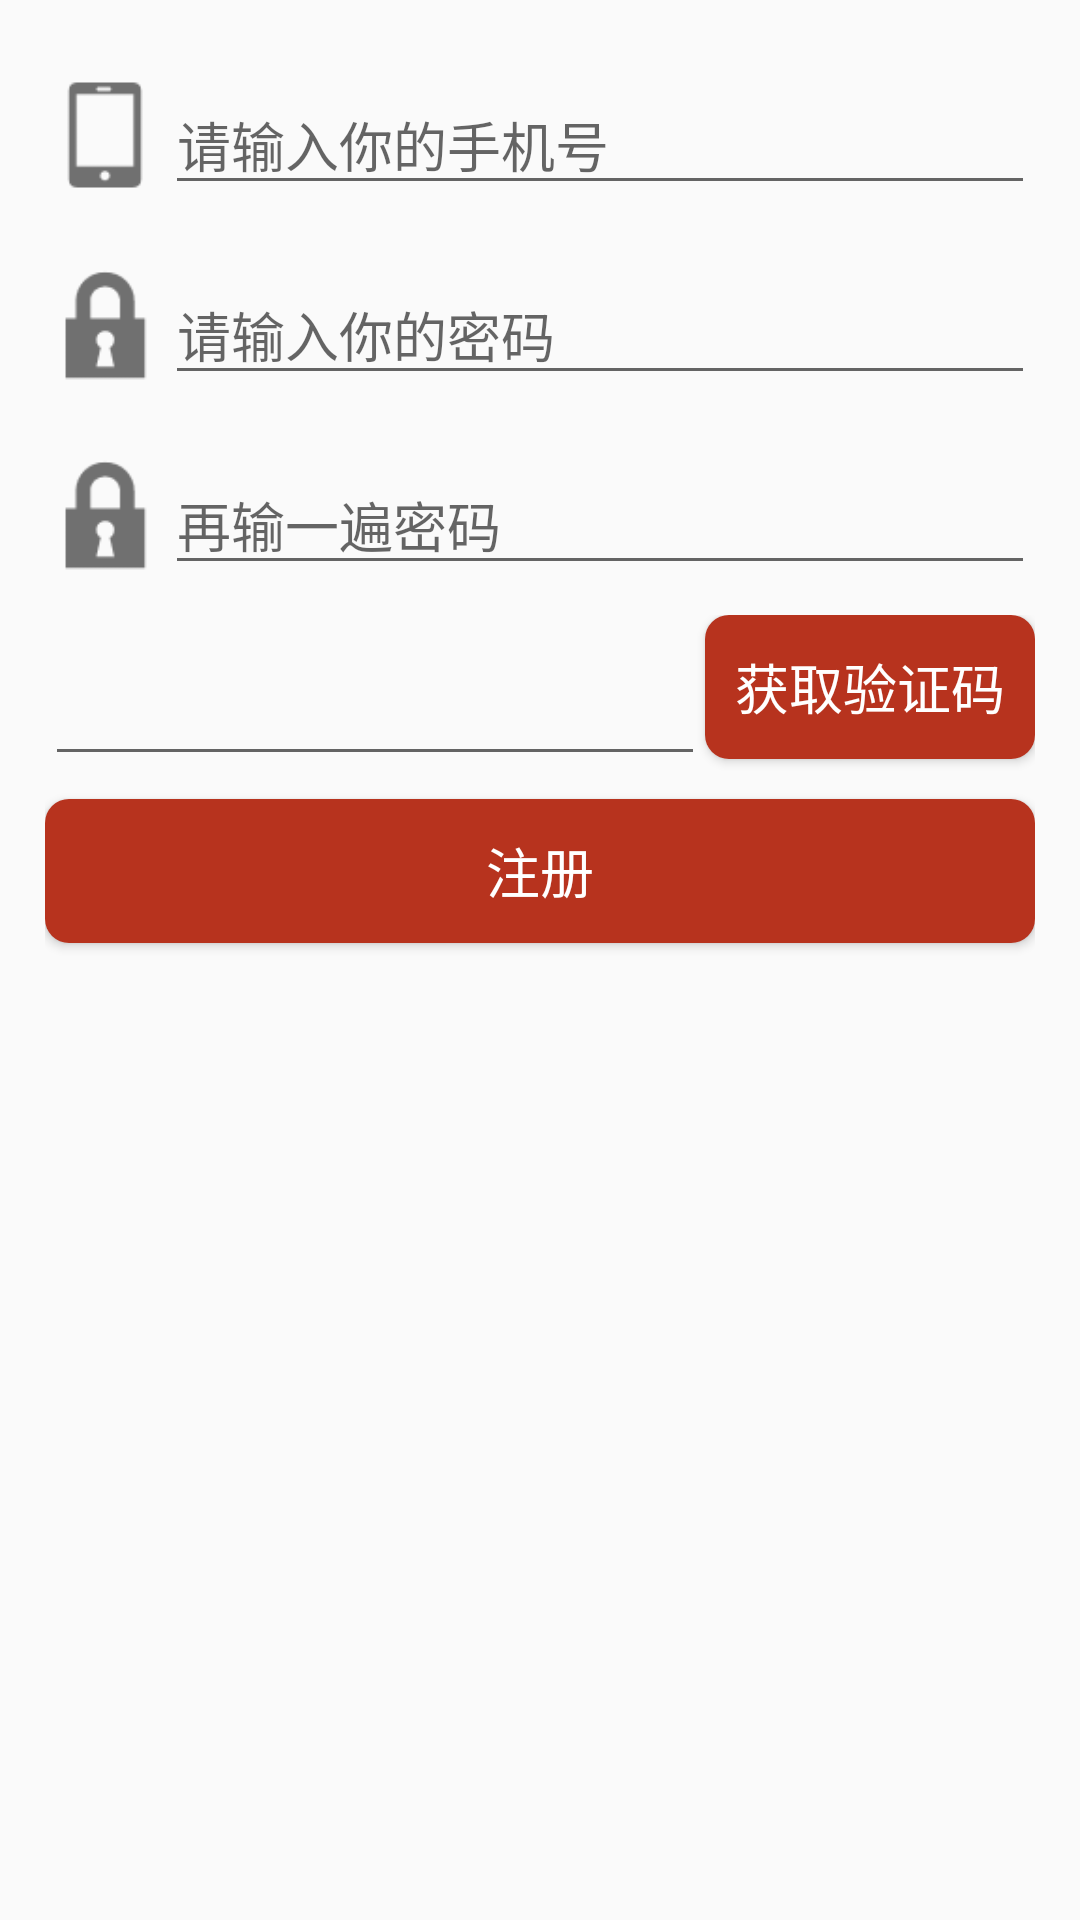

Where to tap for icons on this 1080px×1920px app screen, as point (x, y):
password: point (105, 325), point (105, 515)
telephone: point (105, 135)
